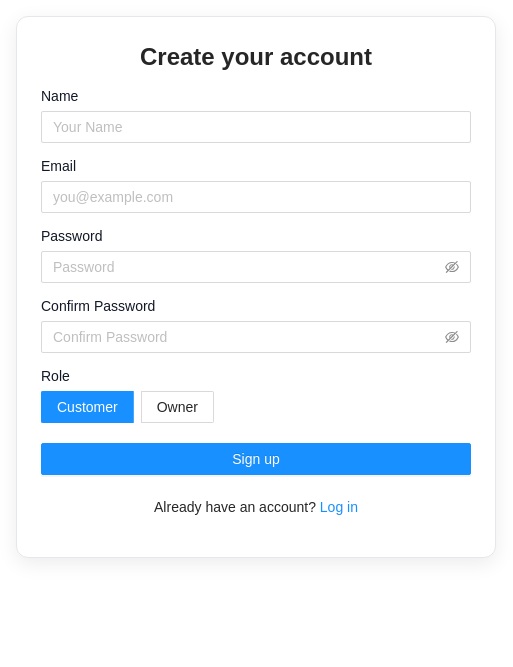
Test: test Signup component › test shows validation errors on submit with empty fields
Click the button "Sign up": (256, 459) [41,443,471,475]
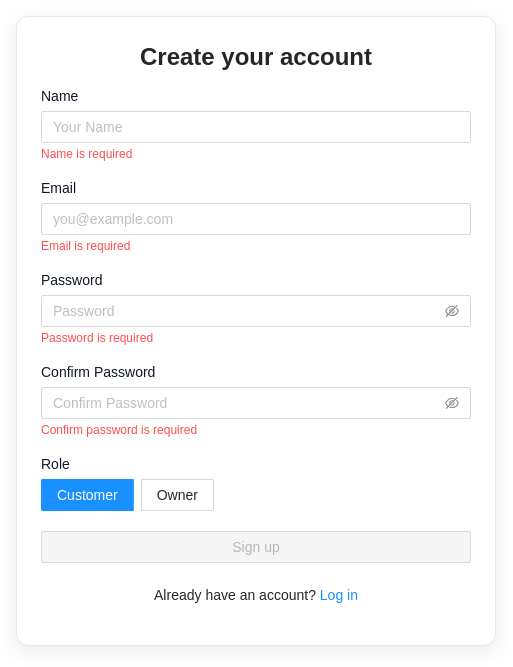
Now the text "Name is required" is shown, box [41,147,132,161]
Now the text "Email is required" is shown, box [41,239,130,253]
Now the text "Password is required" is shown, box [41,331,153,345]
